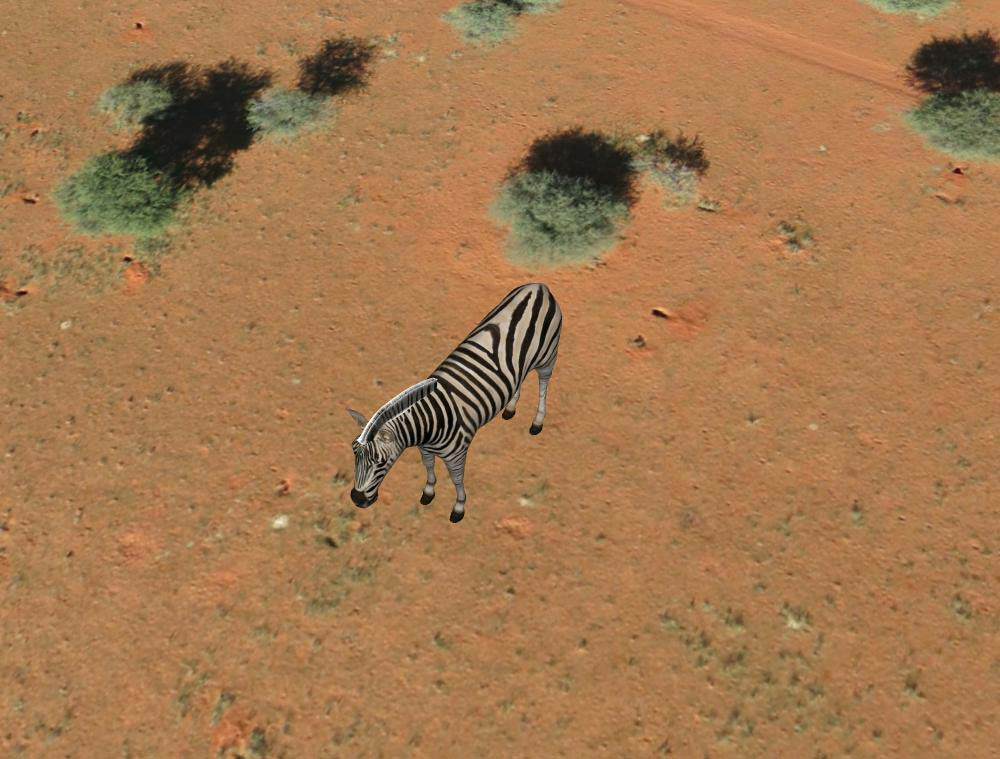zebra: (348, 278, 563, 529)
